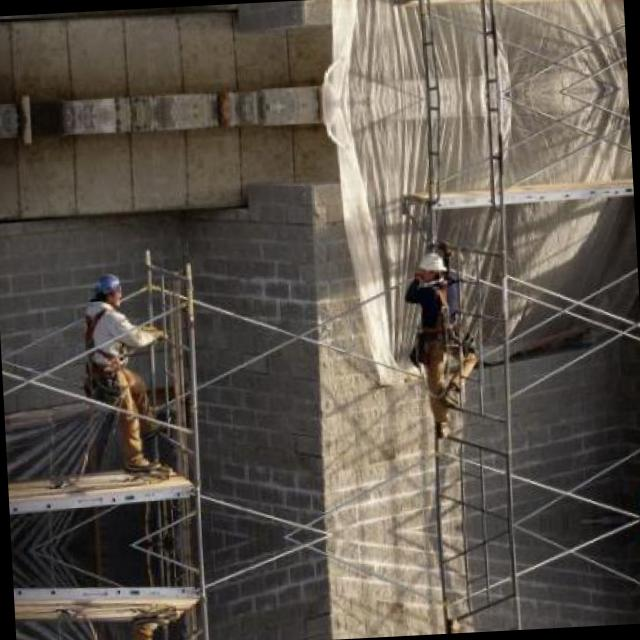helmet: (409, 248, 451, 290), (92, 270, 126, 304)
